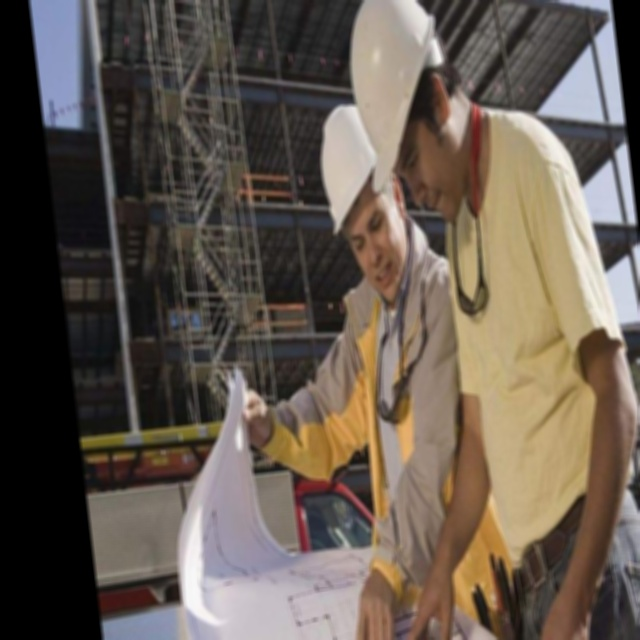Con_Casco: (339, 0, 487, 222)
Sin_Chaleco: (322, 271, 494, 584)
